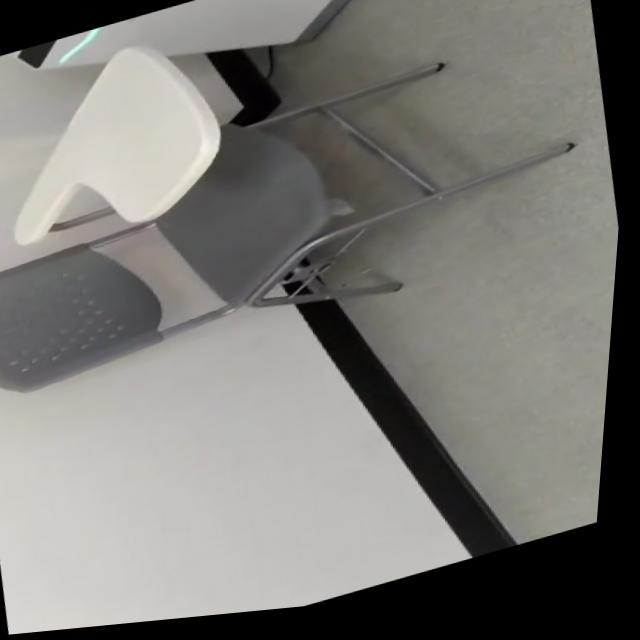chair: (0, 0, 628, 442)
